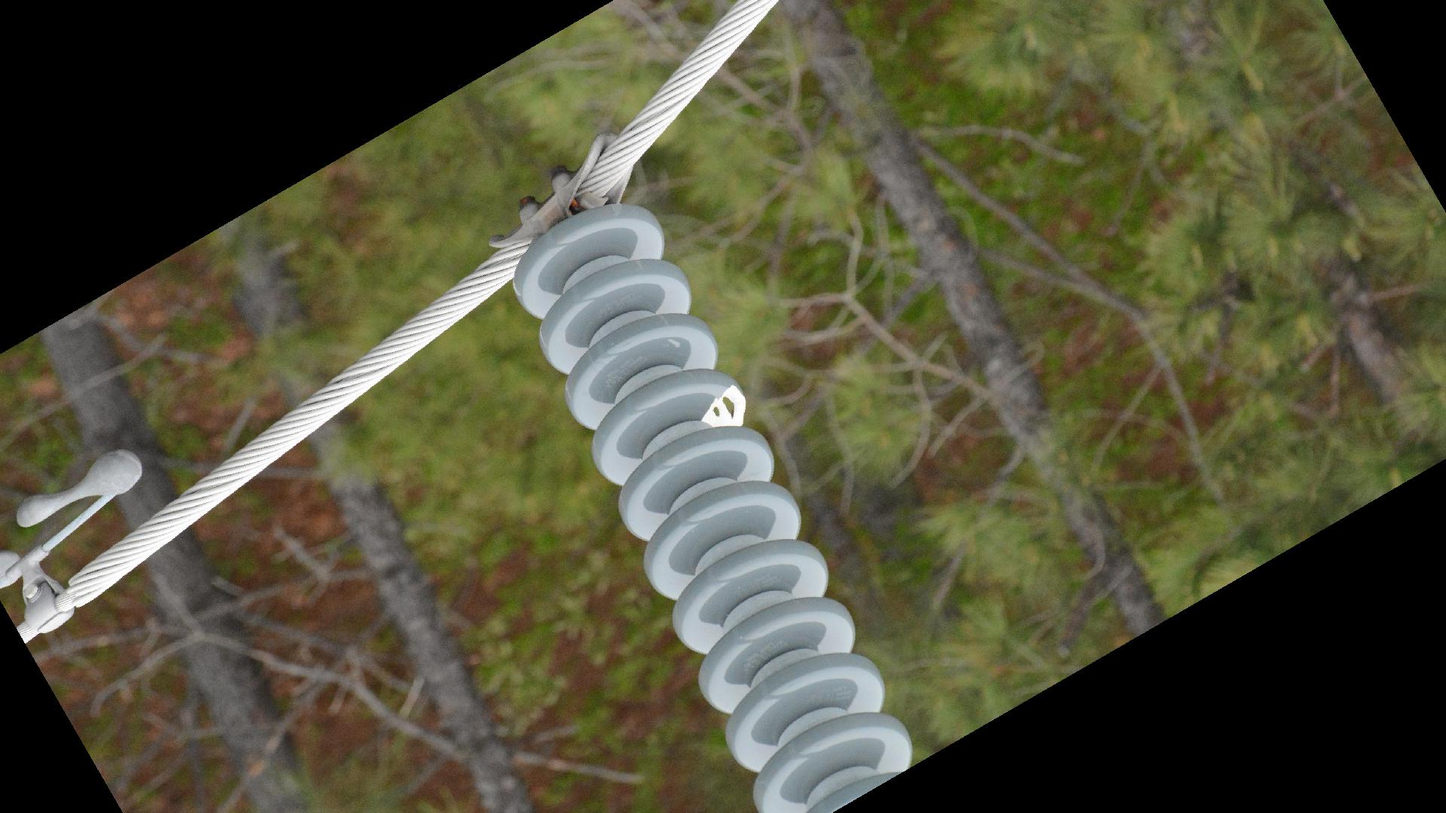insulator: (505, 199, 922, 813)
insulator_breakage: (697, 379, 752, 432)
